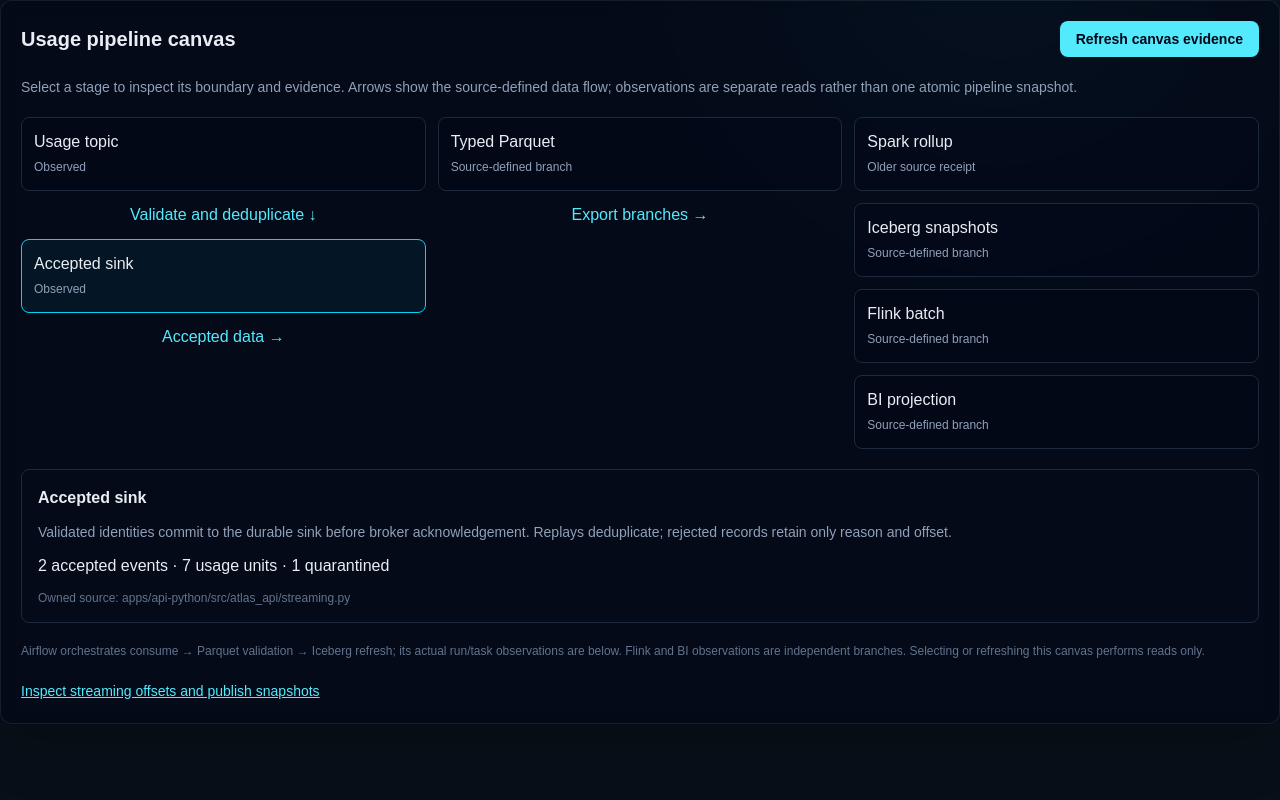
clears previous observations on refresh and preserves absence when providers fail
The image size is (1280, 800).
expect the text "2 accepted events · 7 usage units · 1 quarantined" is shown: met, box [38,557,389,574]
Click the button "Refresh canvas evidence".
click(1159, 39)  # box [1060,21,1259,57]
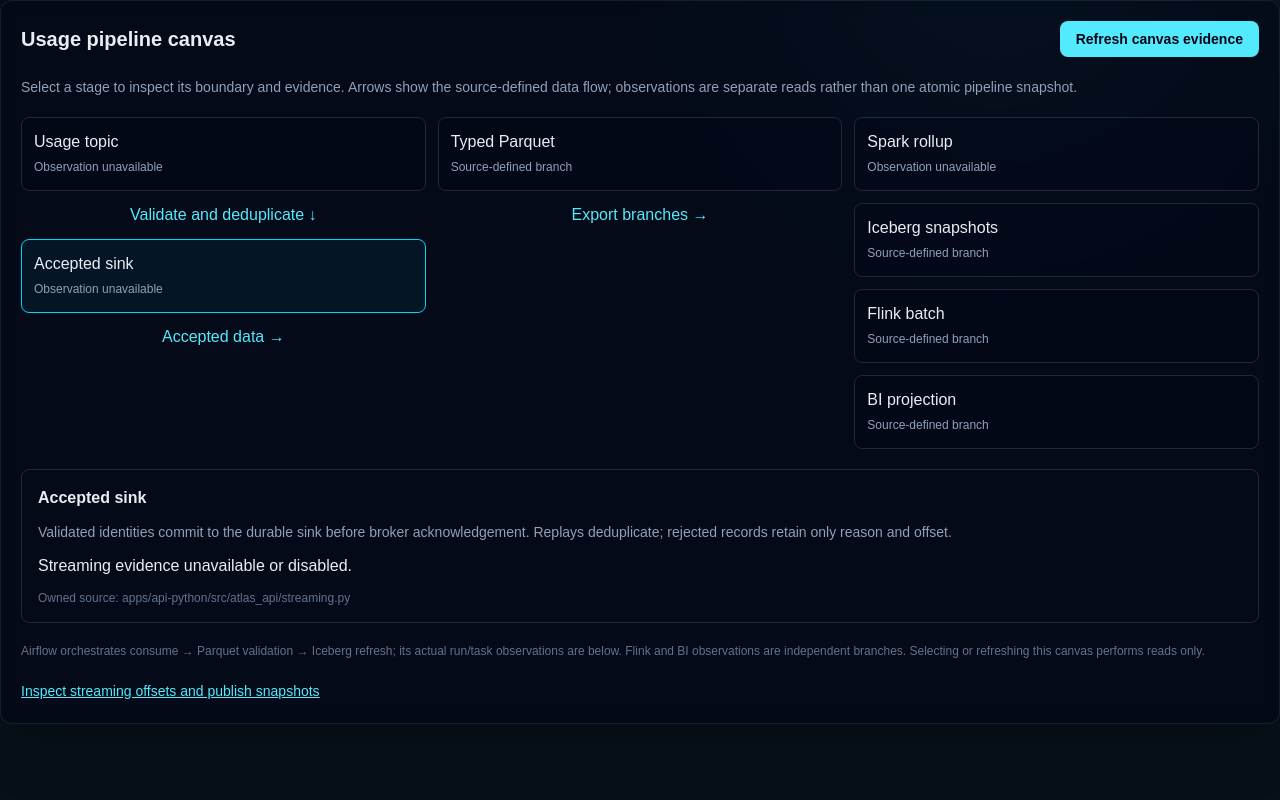
expect the text "Streaming evidence unavailable or disabled." is shown: met, box [38,557,352,574]
expect the text "7 usage units" is gone: met
